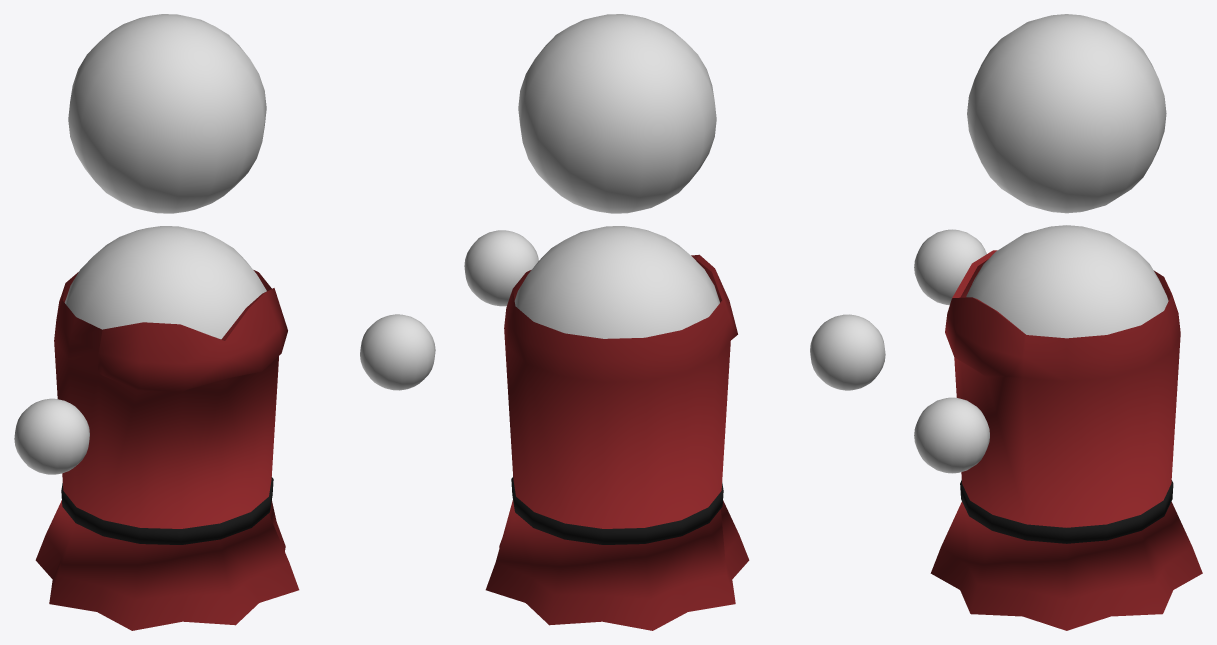
File: Character2.fbx
The picture shows the model from 3 angles, left to right: view 1: azimuth 30°, elevation 25°; view 2: azimuth 150°, elevation 25°; view 3: azimuth 270°, elevation 25°; orthographic projection.
Visible parts, largest first — view 1: Basic.Body.002, Head.001, Basic.Body.001, Hands.001; view 2: Basic.Body.002, Head.001, Basic.Body.001, Hands.001; view 3: Basic.Body.002, Head.001, Basic.Body.001, Hands.001.
Part boxes in pixels (left/top/right/bottom): Basic.Body.002: left=35, top=270, right=299, bottom=630; Head.001: left=68, top=14, right=266, bottom=213; Basic.Body.001: left=64, top=226, right=266, bottom=339; Hands.001: left=14, top=314, right=435, bottom=474; Basic.Body.002: left=485, top=254, right=749, bottom=630; Head.001: left=518, top=14, right=716, bottom=213; Basic.Body.001: left=514, top=226, right=719, bottom=338; Hands.001: left=464, top=230, right=885, bottom=390; Basic.Body.002: left=930, top=250, right=1202, bottom=630; Head.001: left=967, top=14, right=1166, bottom=213; Basic.Body.001: left=966, top=225, right=1168, bottom=338; Hands.001: left=914, top=229, right=989, bottom=473.
Bounding box in the file's own units: 115 × 147 × 70.15.
